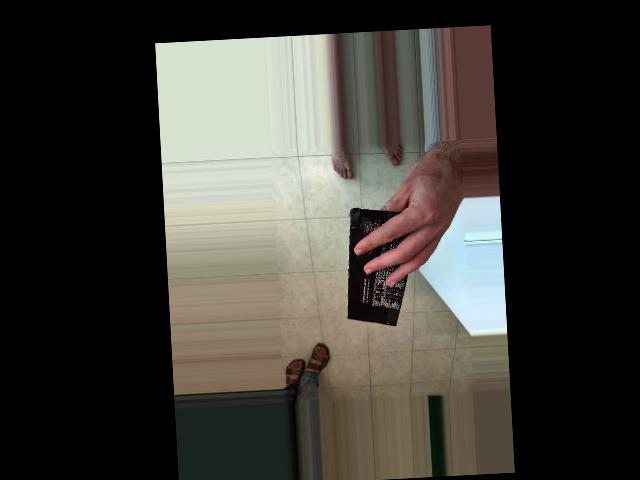chocolate: (268, 258, 400, 340)
